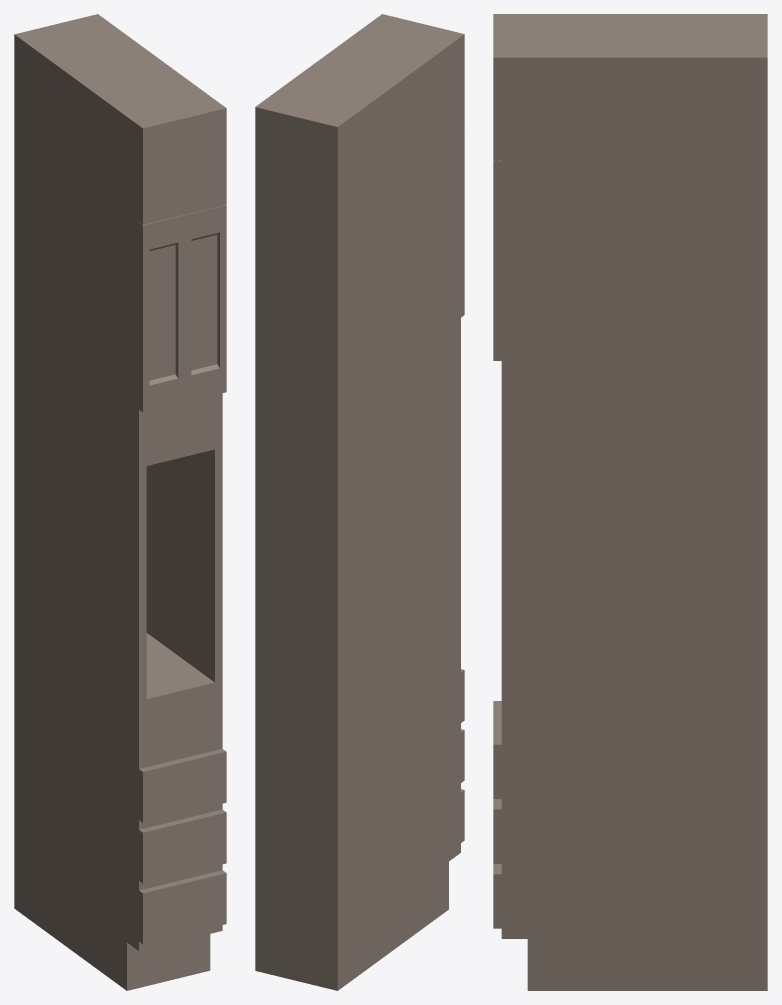
Rendered from Oven-Cabinet-24-Deep_std_001_W9in_1D.glb.
3 renders of one model, left to right at view 1: azimuth 30°, elevation 25°; view 2: azimuth 150°, elevation 25°; view 3: azimuth 270°, elevation 25°, orthographic. The views are drawn at different scales.
Parts seen in each view (by area): view 1: Oven-Cabinet-24-Deep.std.001_W9in_1D; view 2: Oven-Cabinet-24-Deep.std.001_W9in_1D; view 3: Oven-Cabinet-24-Deep.std.001_W9in_1D.
Part boxes in pixels (x1=…): Oven-Cabinet-24-Deep.std.001_W9in_1D: x1=14, y1=14, x2=226, y2=990; Oven-Cabinet-24-Deep.std.001_W9in_1D: x1=255, y1=14, x2=464, y2=990; Oven-Cabinet-24-Deep.std.001_W9in_1D: x1=493, y1=14, x2=767, y2=990.
Size of the model in its own units: 0.2286 by 2.29 by 0.6096.
